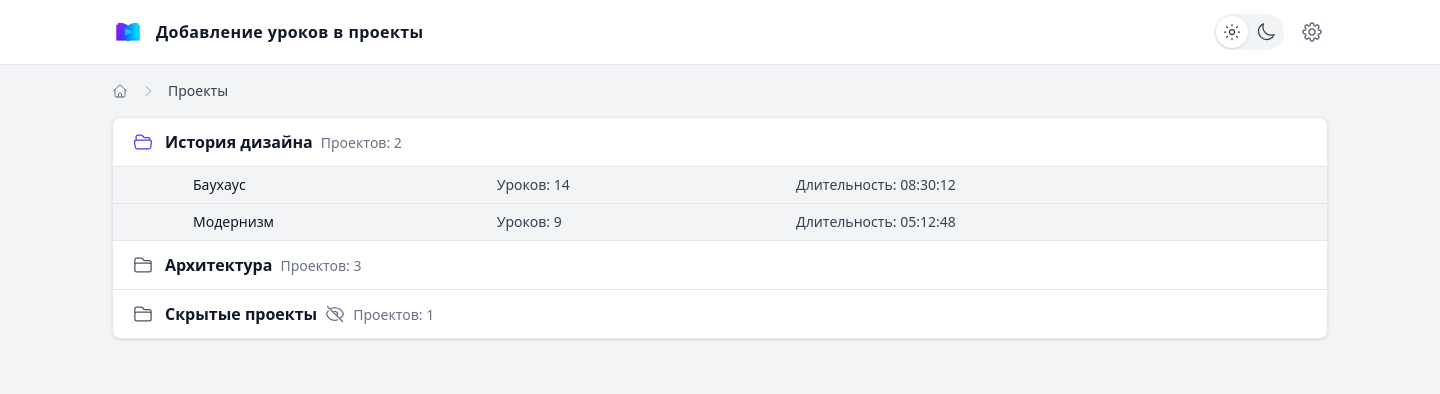
Scenario: ProjectsView › keeps only one folder open at a time
What coordinates should you click on to do the following:
click the element with class "cursor-pointer" showing "Архитектура Проектов: 3"
I would click on:
 (247, 265)
Its box is [133,254,362,276].
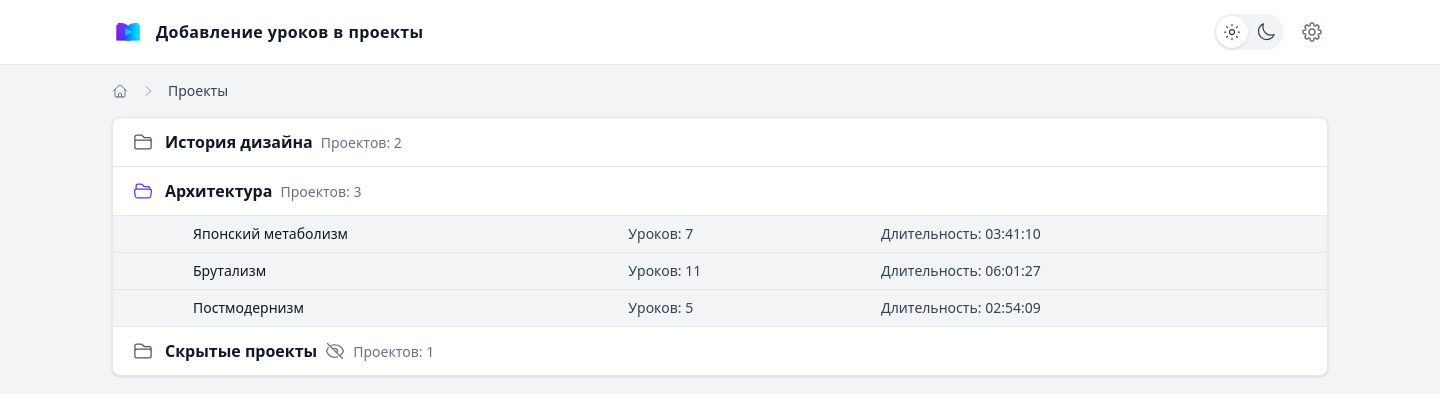
Check: the text "Японский метаболизм" is shown, box [193,224,348,243]
Check: the text "Баухаус" is gone
